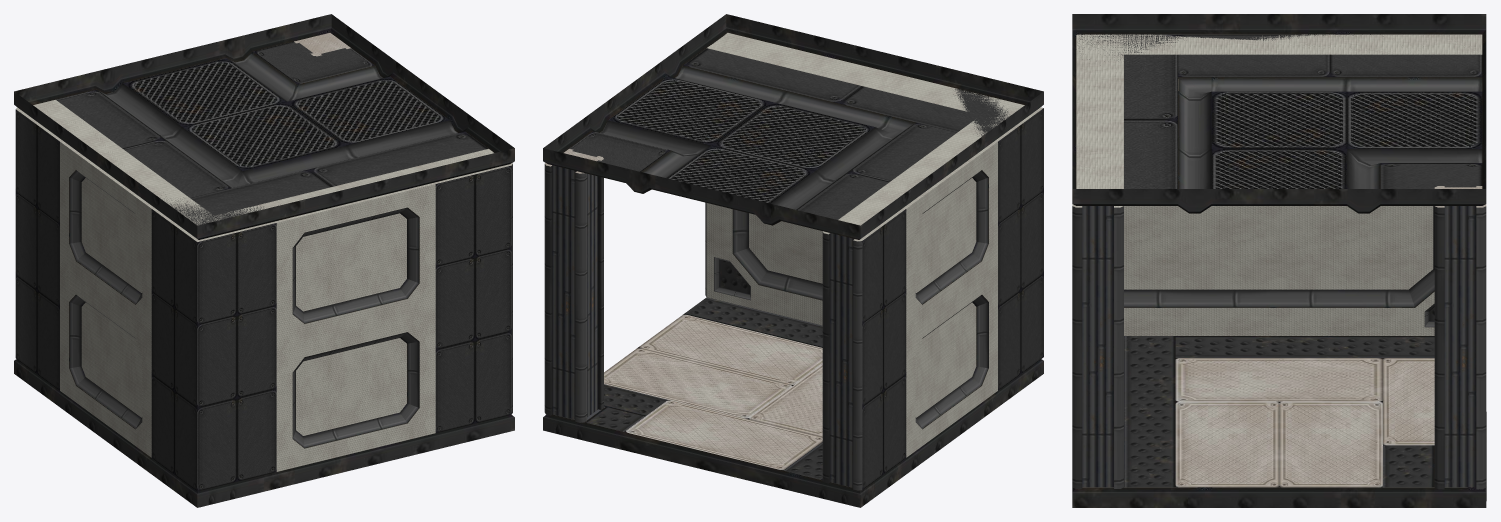
File: Corridor_Corner_Rework.fbx
3 renders of one model, left to right at view 1: azimuth 30°, elevation 25°; view 2: azimuth 150°, elevation 25°; view 3: azimuth 270°, elevation 25°, orthographic. The views are drawn at different scales.
Parts seen in each view (by area): view 1: Corridor_Corner_Rework; view 2: Corridor_Corner_Rework; view 3: Corridor_Corner_Rework.
Boxes of the visible parts, left/top/right/bottom form: Corridor_Corner_Rework: left=14, top=14, right=514, bottom=507; Corridor_Corner_Rework: left=543, top=14, right=1043, bottom=507; Corridor_Corner_Rework: left=1072, top=14, right=1486, bottom=507.
Size of the model in its own units: 400 by 340 by 400.
